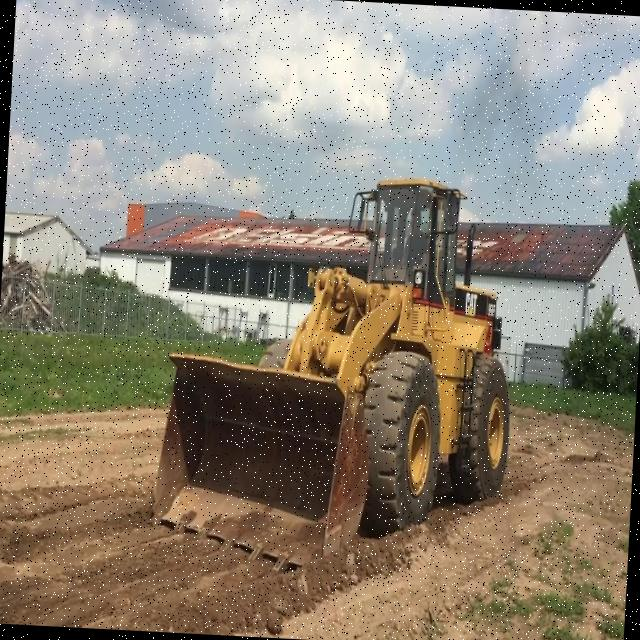Loader: (148, 161, 524, 588)
